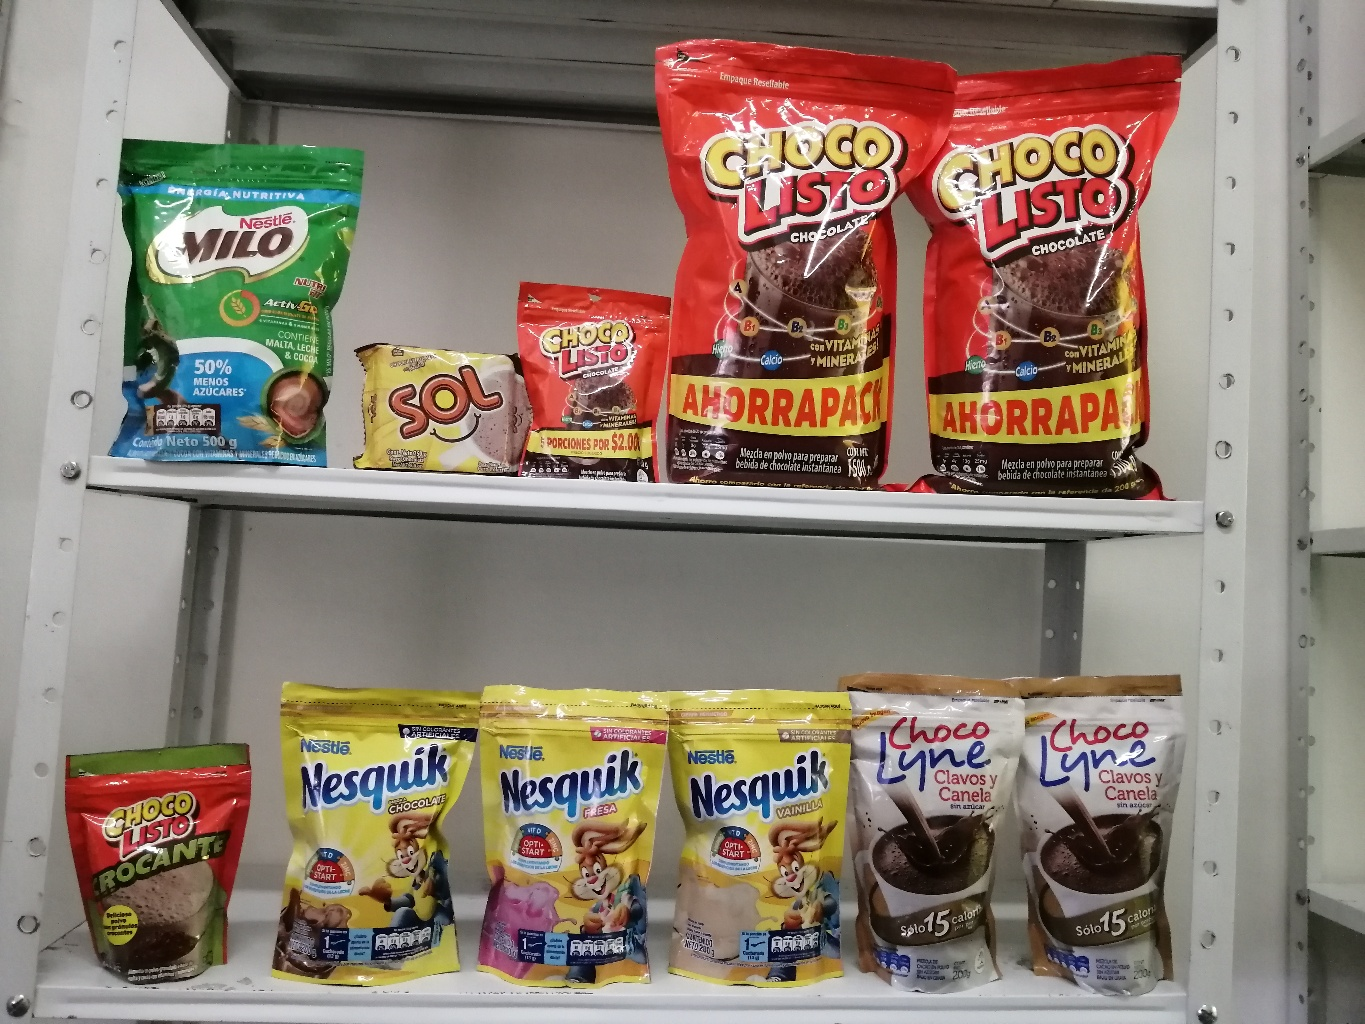COL0170102DYP10000: (66, 749, 252, 985)
COL0170103DYP1,500: (654, 40, 958, 490)
COL0170103DYP10000: (518, 275, 672, 481)
COL0170205DYP50000: (119, 136, 362, 472)
COL0170303DYP20000: (280, 679, 481, 991)
COL0170305DYP20000: (475, 682, 669, 992)
COL0170306DYP20000: (665, 686, 854, 992)
